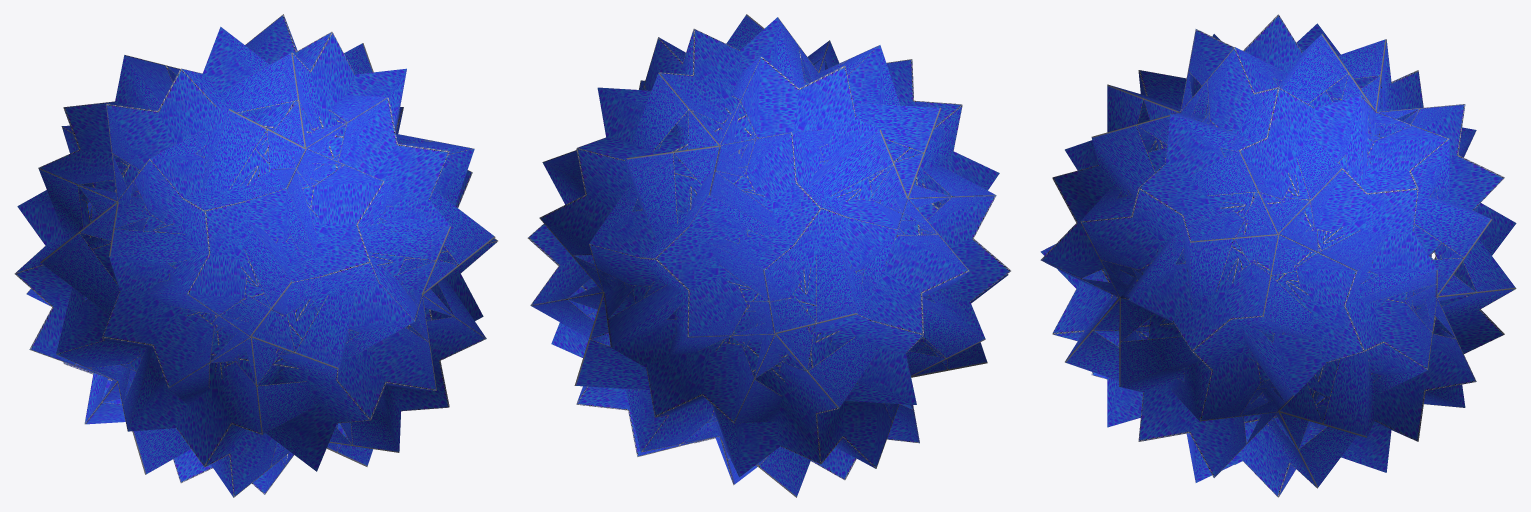
The model's file is GreatInvertedPentagonalHexecontahedron14.gltf.
The picture shows the model from 3 angles, left to right: view 1: azimuth 30°, elevation 25°; view 2: azimuth 150°, elevation 25°; view 3: azimuth 270°, elevation 25°; orthographic projection.
Parts seen in each view (by area): view 1: GreatInvertedPentagonalHexecontahedron14; view 2: GreatInvertedPentagonalHexecontahedron14; view 3: GreatInvertedPentagonalHexecontahedron14.
Part boxes in pixels (<box>): GreatInvertedPentagonalHexecontahedron14: <box>14,14,497,497</box>; GreatInvertedPentagonalHexecontahedron14: <box>527,14,1010,497</box>; GreatInvertedPentagonalHexecontahedron14: <box>1040,14,1516,497</box>.
Size of the model in its own units: 1.13 by 1.13 by 1.13.
Materials: 1 (1 with a texture image).
